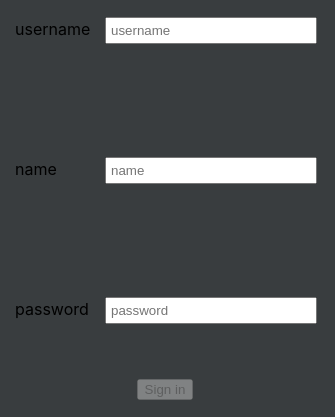
Test: Given a UserForm component › When it's rendered with login false and all inputs are filled › Then the submit button should not be disabled
The image size is (335, 417).
Type "astusathu" into the field labelled "username".
click(211, 30); type("astusathu")  # box [105,17,317,44]
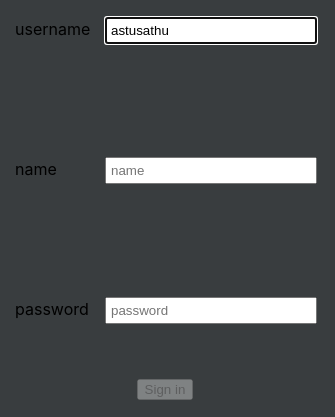
Type "uaestuitd" into the password field labelled "password".
click(211, 310); type("uaestuitd")  # box [105,297,317,324]
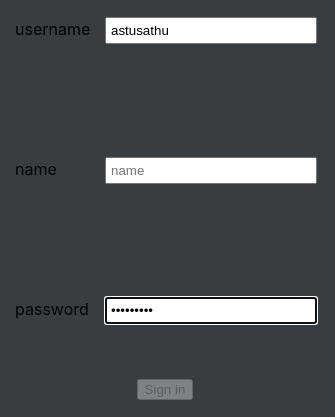
Type "ecbpetuh" into the field labelled "name".
click(211, 170); type("ecbpetuh")  # box [105,157,317,184]
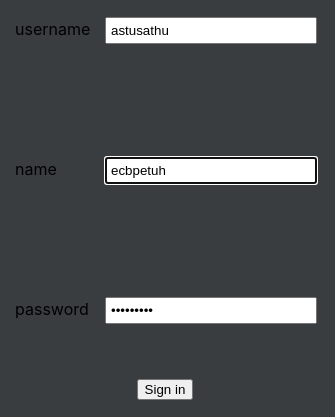
Result: the button "Sign in" is enabled at [137,379,193,400]
